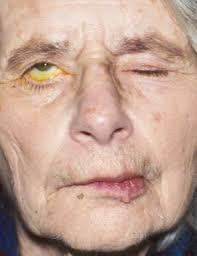strokeEyeSevere: (11, 45, 176, 90)
strokeMouthMid: (58, 168, 160, 204)
